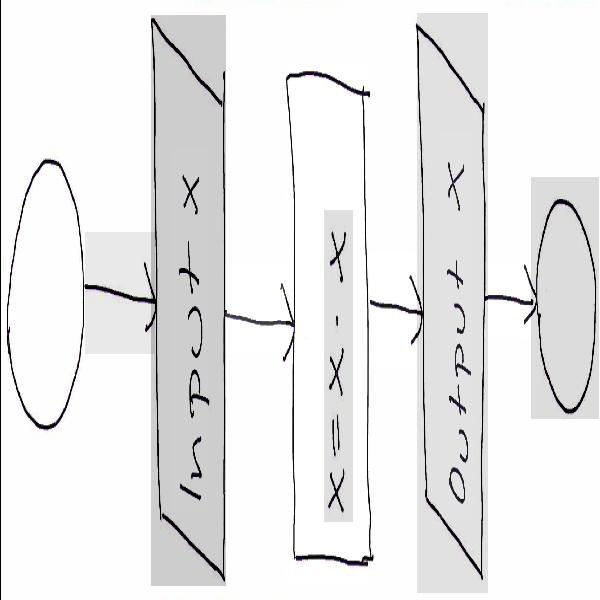arrow: (84, 232, 154, 354), (224, 262, 285, 353), (368, 252, 414, 370), (483, 262, 538, 337)
data: (151, 15, 225, 586), (417, 13, 487, 592)
process: (285, 62, 367, 583)
terminator: (1, 134, 88, 439), (530, 177, 598, 419)
text: (172, 147, 208, 513), (438, 131, 472, 517), (323, 209, 352, 522)
